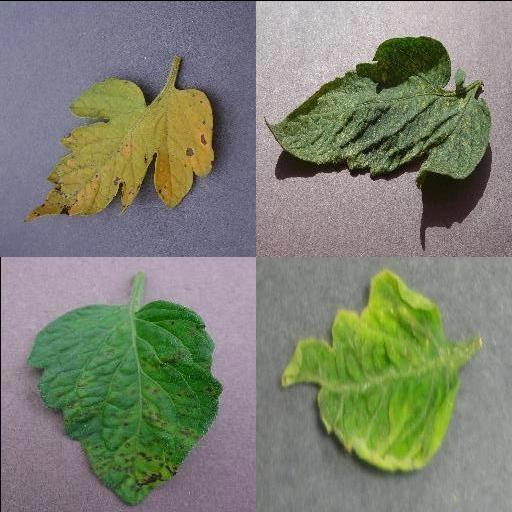Septoria: (24, 298, 222, 506), (20, 78, 216, 223)
Spider Mites: (262, 35, 492, 181)
Yellow Leaf Curl Virus: (279, 269, 459, 473)
